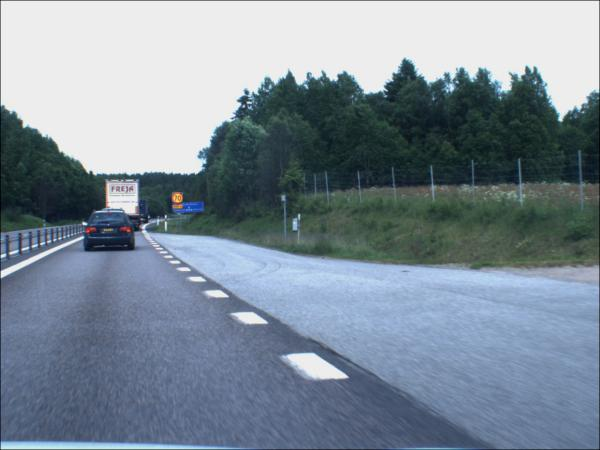70_SIGN: (173, 193, 185, 204)
